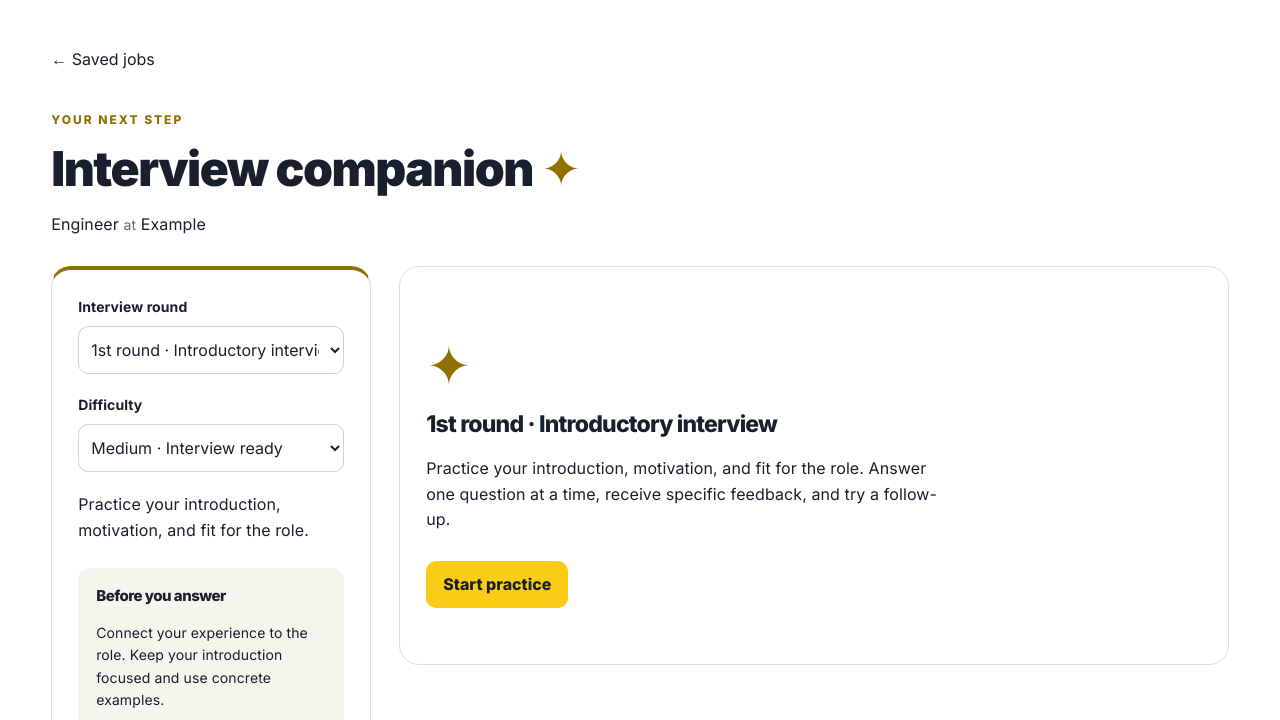
it: interview companion › keeps the answer after a failed request and allows retry
This screenshot has width=1280, height=720.
Click the button "Start practice": (497, 585) [426, 561, 568, 608]
(page scrolled)
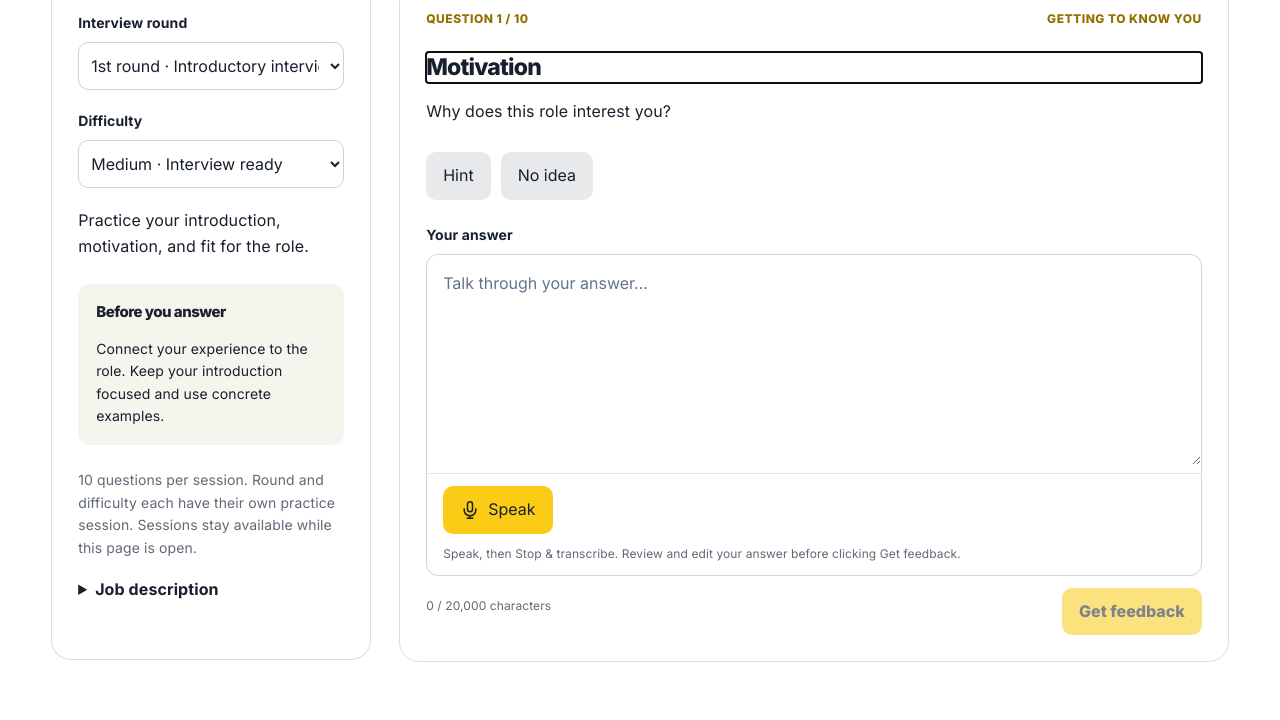
In the text box labelled "Your answer": (814, 360) [427, 255, 1201, 465], type "Keep my answer"
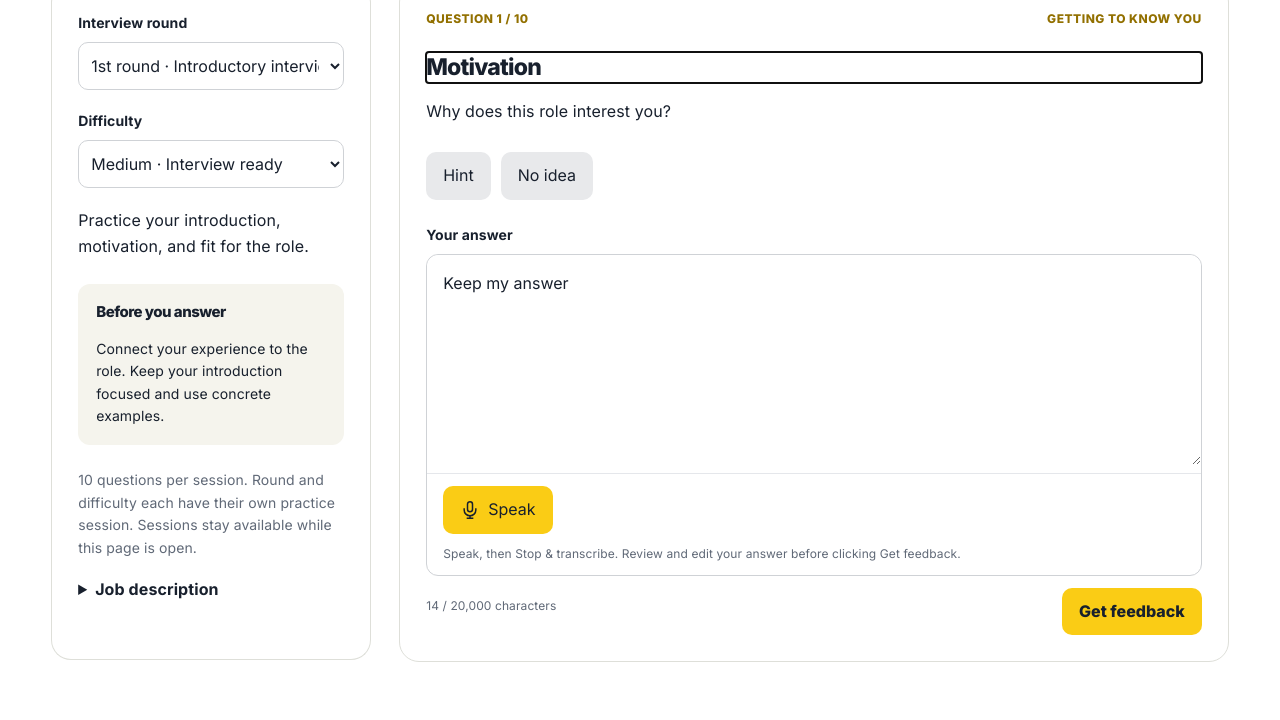
Click the button "Get feedback": (1132, 612) [1062, 588, 1202, 635]
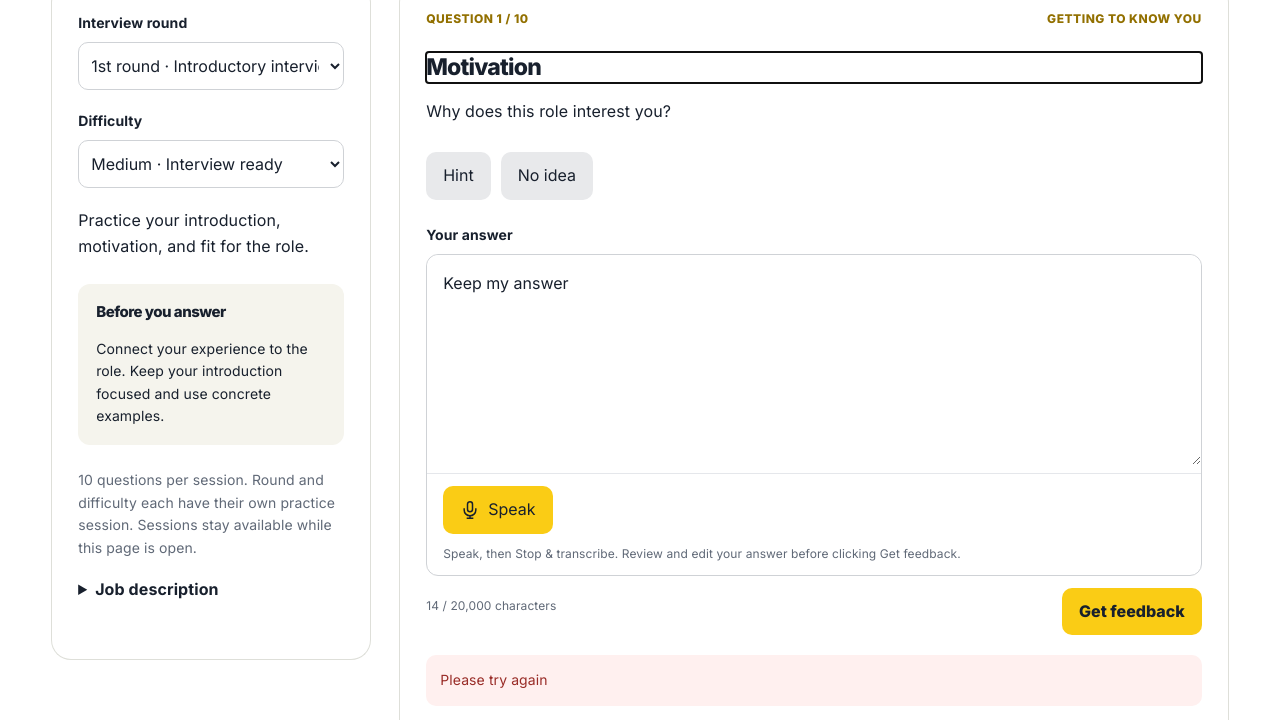
Now the button "Get feedback" is enabled, box [1062, 588, 1202, 635]
Now the message "Please try again" is shown, box [426, 655, 1202, 706]
